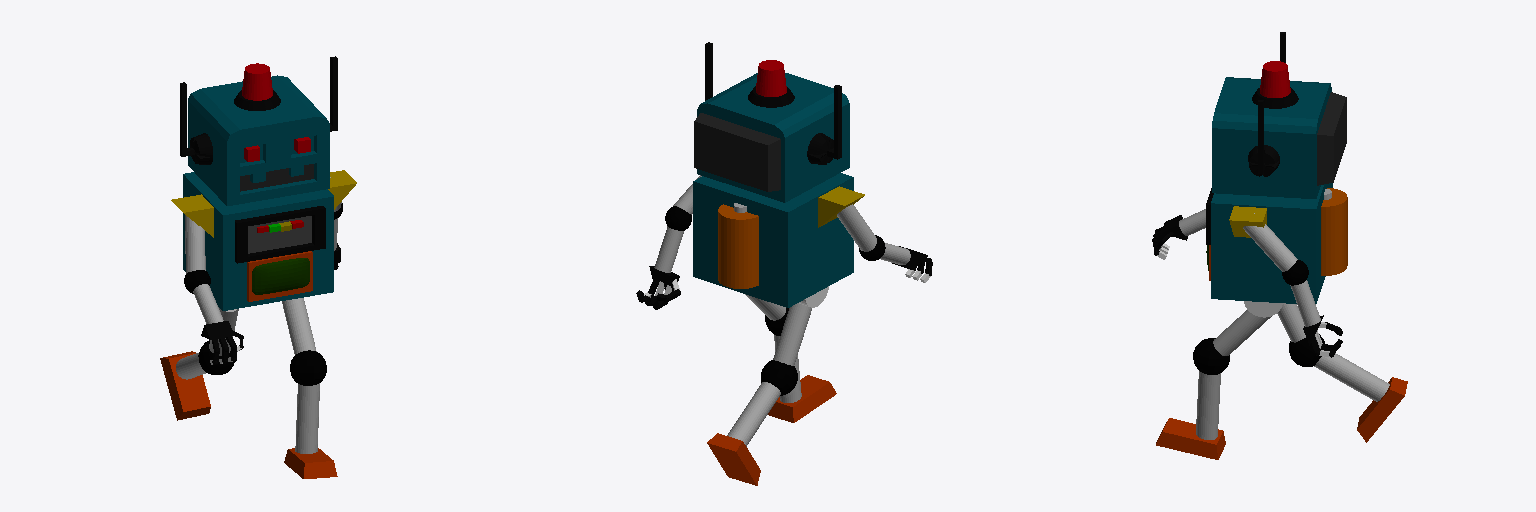
The model's file is Robots2.obj.
The picture shows the model from 3 angles: view 1: azimuth 30°, elevation 25°; view 2: azimuth 150°, elevation 25°; view 3: azimuth 270°, elevation 25°; orthographic projection.
Visible parts, largest first — view 1: head_Cube.002, middle_Cube.049, leglow.L_Sphere.002, foot.R_Cube.004, armlow.R_Sphere.003, Legup.L_Cylinder.008, foot.L_Cube.006, leglow.R_Sphere, armup.R_Cylinder.010, Wedge.R_Wedge, Wedge.L_Wedge.005; view 2: head_Cube.002, middle_Cube.049, leglow.R_Sphere, foot.R_Cube.004, Wedge.002_Wedge.004, foot.L_Cube.006, legup.R_Cylinder.003, armlow.R_Sphere.003, Wedge.R_Wedge, armup.R_Cylinder.010, leglow.L_Sphere.002; view 3: head_Cube.002, middle_Cube.049, leglow.L_Sphere.002, leglow.R_Sphere, foot.L_Cube.006, Wedge.002_Wedge.004, foot.R_Cube.004, Legup.L_Cylinder.008, armup.L_Cylinder.015, Wedge.L_Wedge.005, armlow.R_Sphere.003, legup.R_Cylinder.003.
Part boxes in pixels (x1,y1,x2,y2): head_Cube.002: (180, 56, 337, 205); middle_Cube.049: (183, 172, 333, 310); leglow.L_Sphere.002: (290, 350, 326, 453); foot.R_Cube.004: (160, 351, 210, 420); armlow.R_Sphere.003: (184, 270, 234, 339); Legup.L_Cylinder.008: (282, 298, 316, 354); foot.L_Cube.006: (284, 448, 337, 478); leglow.R_Sphere: (176, 340, 234, 379); armup.R_Cylinder.010: (185, 215, 205, 273); Wedge.R_Wedge: (171, 194, 213, 237); Wedge.L_Wedge.005: (328, 170, 356, 209); head_Cube.002: (694, 42, 849, 202); middle_Cube.049: (693, 173, 853, 307); leglow.R_Sphere: (727, 360, 797, 446); foot.R_Cube.004: (707, 433, 760, 485); Wedge.002_Wedge.004: (649, 206, 691, 291); foot.L_Cube.006: (768, 375, 836, 422); legup.R_Cylinder.003: (773, 303, 811, 365); armlow.R_Sphere.003: (859, 235, 927, 269); Wedge.R_Wedge: (818, 186, 864, 227); armup.R_Cylinder.010: (837, 204, 876, 251); leglow.L_Sphere.002: (765, 308, 801, 402); head_Cube.002: (1212, 32, 1346, 198); middle_Cube.049: (1206, 183, 1347, 303); leglow.L_Sphere.002: (1193, 338, 1229, 439); leglow.R_Sphere: (1289, 334, 1389, 401); foot.L_Cube.006: (1156, 418, 1225, 459); Wedge.002_Wedge.004: (1282, 260, 1323, 345); foot.R_Cube.004: (1357, 377, 1407, 442); Legup.L_Cylinder.008: (1213, 310, 1271, 355); armup.L_Cylinder.015: (1243, 213, 1297, 271); Wedge.L_Wedge.005: (1229, 206, 1266, 237); armlow.R_Sphere.003: (1161, 209, 1205, 240); legup.R_Cylinder.003: (1277, 303, 1305, 342).
Size of the model in its own units: 2.39 by 4.17 by 2.56.